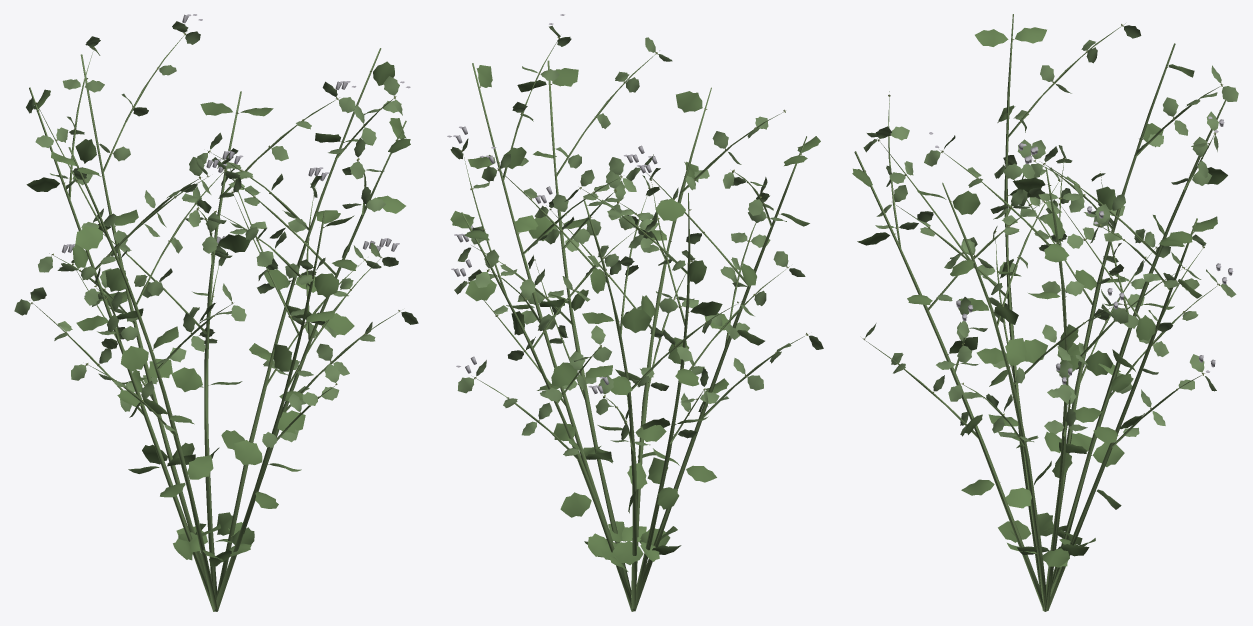
Rendered from Nepita_2_Niveau0.fbx.
3 renders of one model, left to right at view 1: azimuth 30°, elevation 25°; view 2: azimuth 150°, elevation 25°; view 3: azimuth 270°, elevation 25°, orthographic. The views are drawn at different scales.
Parts seen in each view (by area): view 1: Nepita_2_Niveau0; view 2: Nepita_2_Niveau0; view 3: Nepita_2_Niveau0.
Boxes of the visible parts, box(x1,y1,x2,y2) form: Nepita_2_Niveau0: box(14, 14, 418, 611); Nepita_2_Niveau0: box(447, 14, 823, 611); Nepita_2_Niveau0: box(852, 14, 1238, 611).
Bounding box in the file's own units: 23.58 × 34.98 × 22.64.
